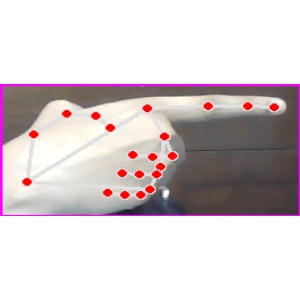G: (1, 85, 299, 216)
